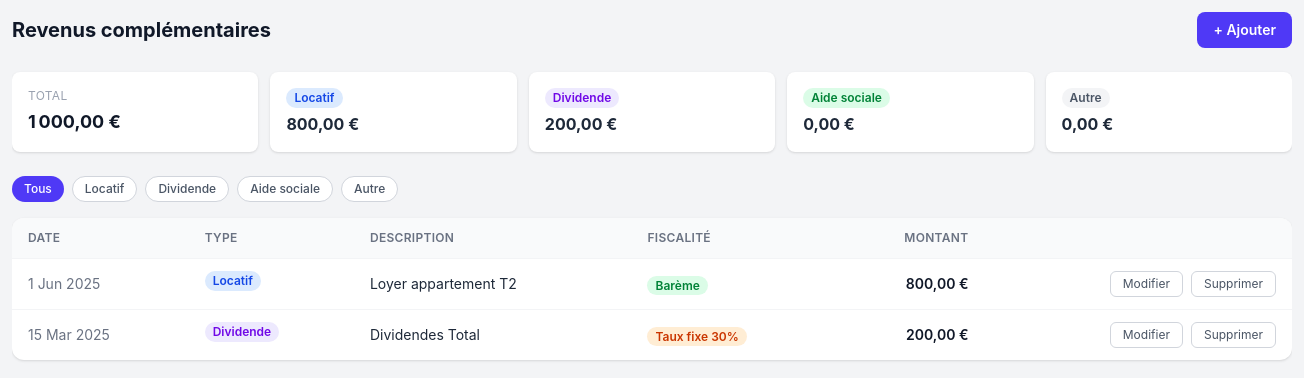
it: OtherIncomePage — pattern CRUD › filtre les revenus par type au clic sur le bouton de filtre
expect the text "Loyer appartement T2" is shown: met, box [354, 258, 632, 310]
expect the text "Dividendes Total" is shown: met, box [354, 310, 632, 360]
Cibler le bouton spécifiquement — "Dividende" apparaît aussi comme badge de type
Click the button "Dividende" at (187, 189), box [145, 176, 229, 202]
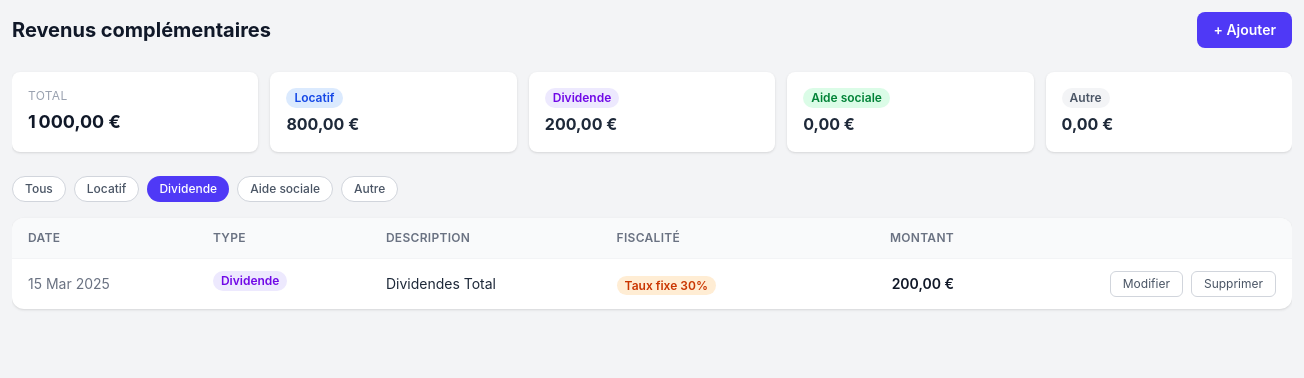
expect the text "Dividendes Total" is shown: met, box [370, 258, 601, 309]
expect the text "Loyer appartement T2" is gone: met
